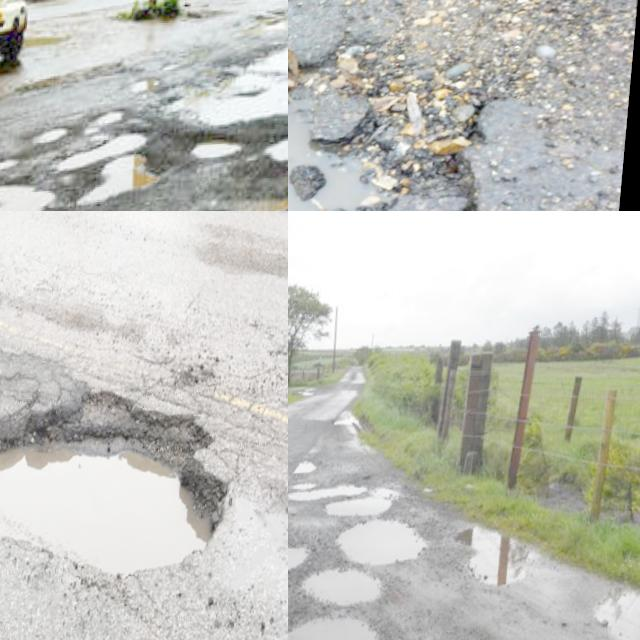Potholes: (0, 272, 276, 640), (288, 16, 504, 211), (4, 92, 210, 211), (167, 20, 288, 196), (288, 513, 445, 640), (448, 510, 575, 640), (288, 453, 419, 554), (288, 587, 534, 640), (328, 399, 378, 460)
